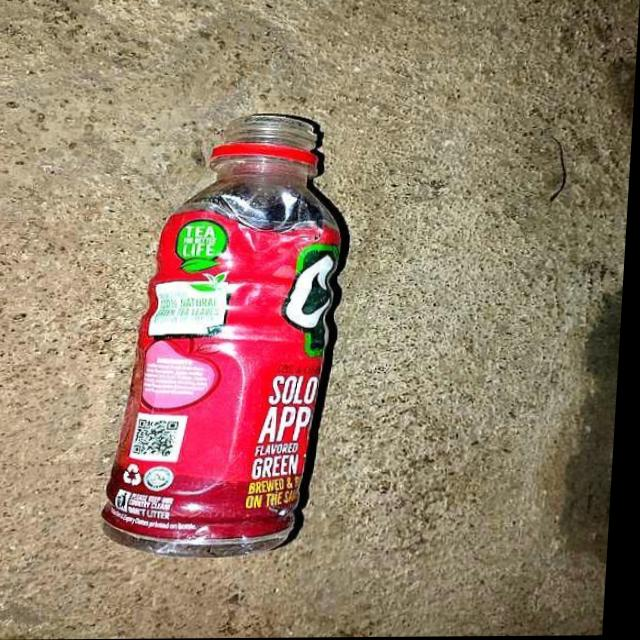Non-biodegradable: (103, 115, 356, 557)
